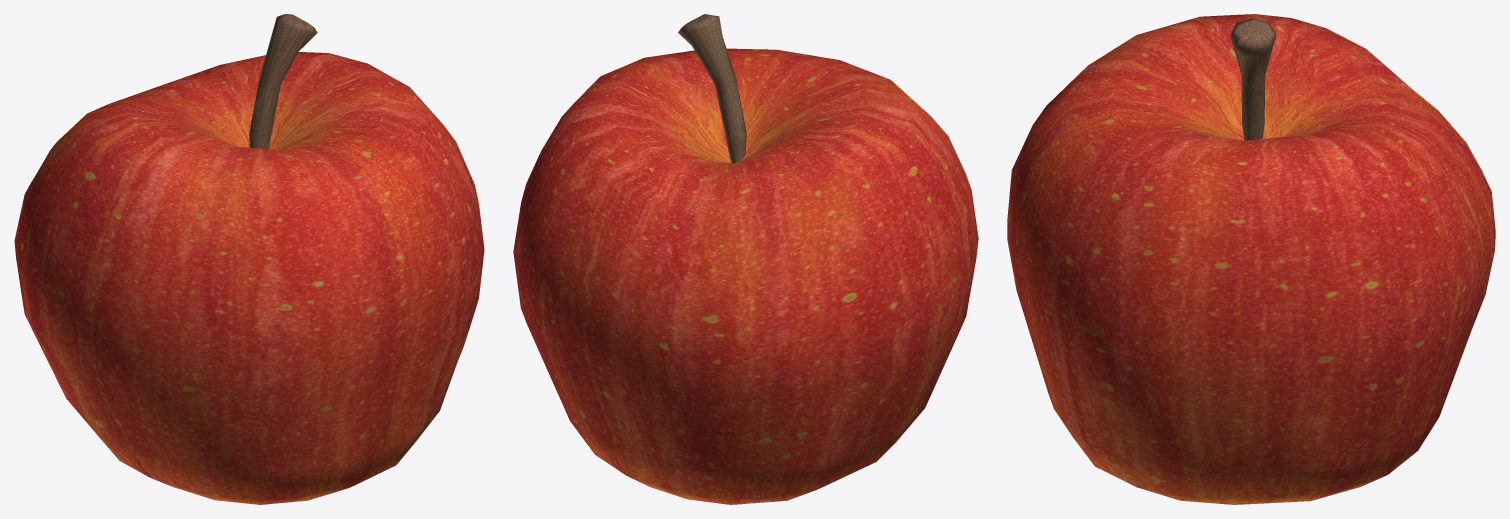
The model's file is apple_mat_LOD1.fbx.
The picture shows the model from 3 angles, left to right: view 1: azimuth 30°, elevation 25°; view 2: azimuth 150°, elevation 25°; view 3: azimuth 270°, elevation 25°; orthographic projection. The views are drawn at different scales.
Parts seen in each view (by area): view 1: Sphere, Sphere.001; view 2: Sphere, Sphere.001; view 3: Sphere, Sphere.001.
Boxes of the visible parts, x1=… form: Sphere: x1=14, y1=52, x2=484, y2=504; Sphere.001: x1=249, y1=14, x2=317, y2=149; Sphere: x1=513, y1=48, x2=978, y2=504; Sphere.001: x1=678, y1=14, x2=746, y2=163; Sphere: x1=1007, y1=14, x2=1495, y2=504; Sphere.001: x1=1230, y1=18, x2=1276, y2=140.
Size of the model in its own units: 180 by 183 by 180.
Materials: 2 (2 with a texture image).
